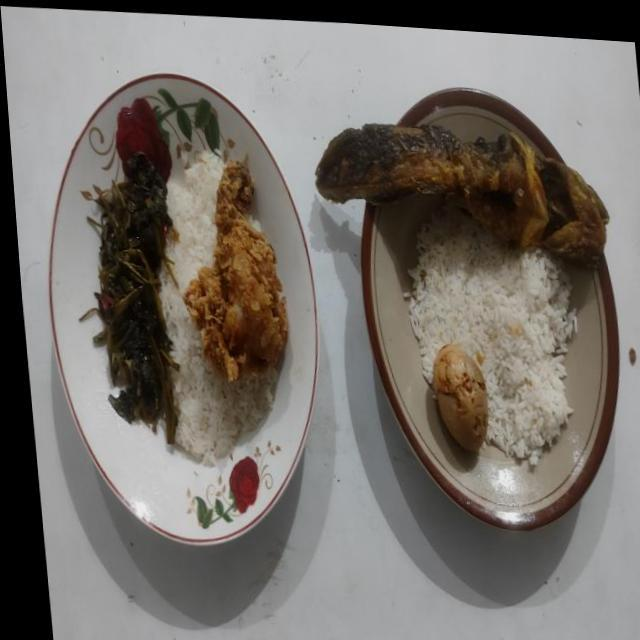nasi_putih: (408, 206, 576, 465), (159, 150, 278, 466)
tumis_kangkung: (80, 152, 178, 444)
